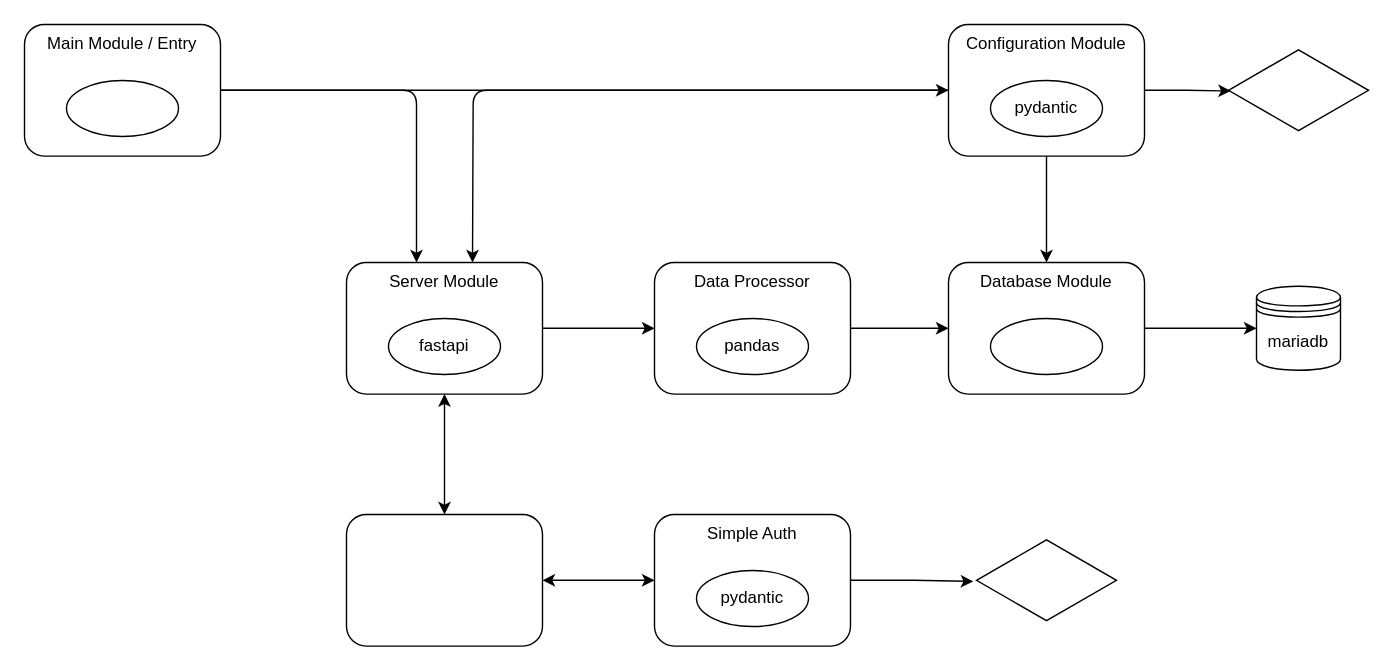
Some shapes in this 1393 by 671 pixel diagram are drawn without their labels. Each missing label, with the centre of its shape:
"Authentiction Backend" goes at point 443,579.
"click" goes at point 121,107.
"config.json" goes at point 1297,89.
"sqlalchemy" goes at point 1045,345.
"users.json" goes at point 1045,579.
